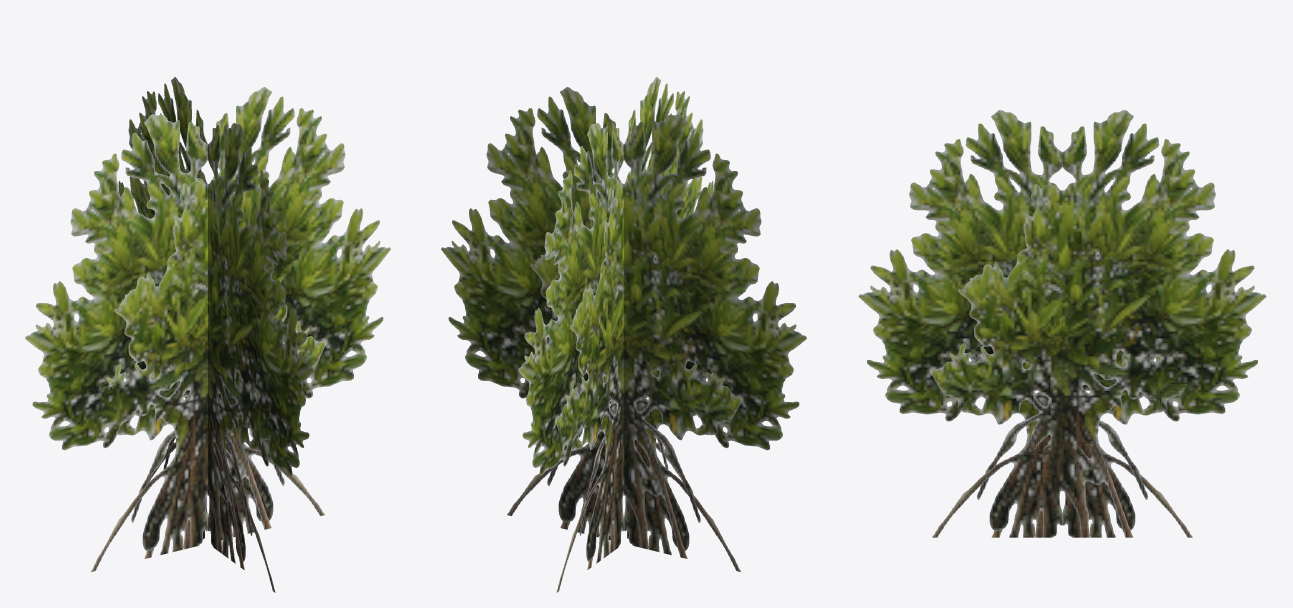
The model's file is mangrove_1.FBX.
The picture shows the model from 3 angles, left to right: view 1: azimuth 30°, elevation 25°; view 2: azimuth 150°, elevation 25°; view 3: azimuth 270°, elevation 25°; orthographic projection. The views are drawn at different scales.
Visible parts, largest first — view 1: mangrove_1; view 2: mangrove_1; view 3: mangrove_1.
Part boxes in pixels (x1=…): mangrove_1: x1=25, y1=77, x2=390, y2=592; mangrove_1: x1=441, y1=77, x2=806, y2=592; mangrove_1: x1=858, y1=110, x2=1266, y2=537.
Size of the model in its own units: 141 by 155 by 141.
